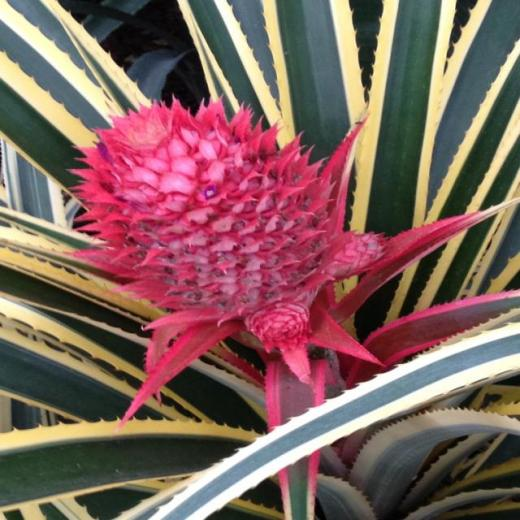Mango: (66, 92, 395, 356)
